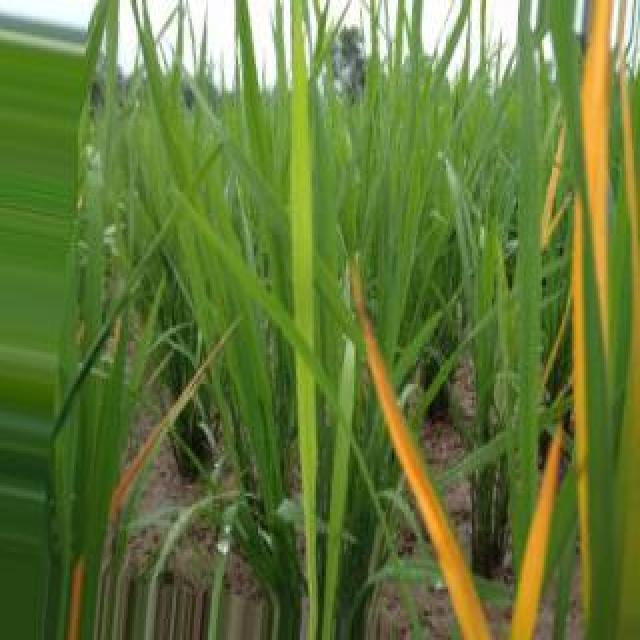Rice Tungro: (352, 262, 491, 638), (110, 323, 234, 528), (511, 425, 561, 638), (581, 0, 611, 326), (572, 195, 589, 619), (541, 127, 563, 249)
